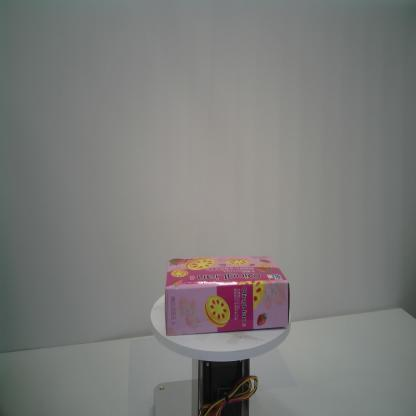Dessert: (164, 254, 291, 338)
